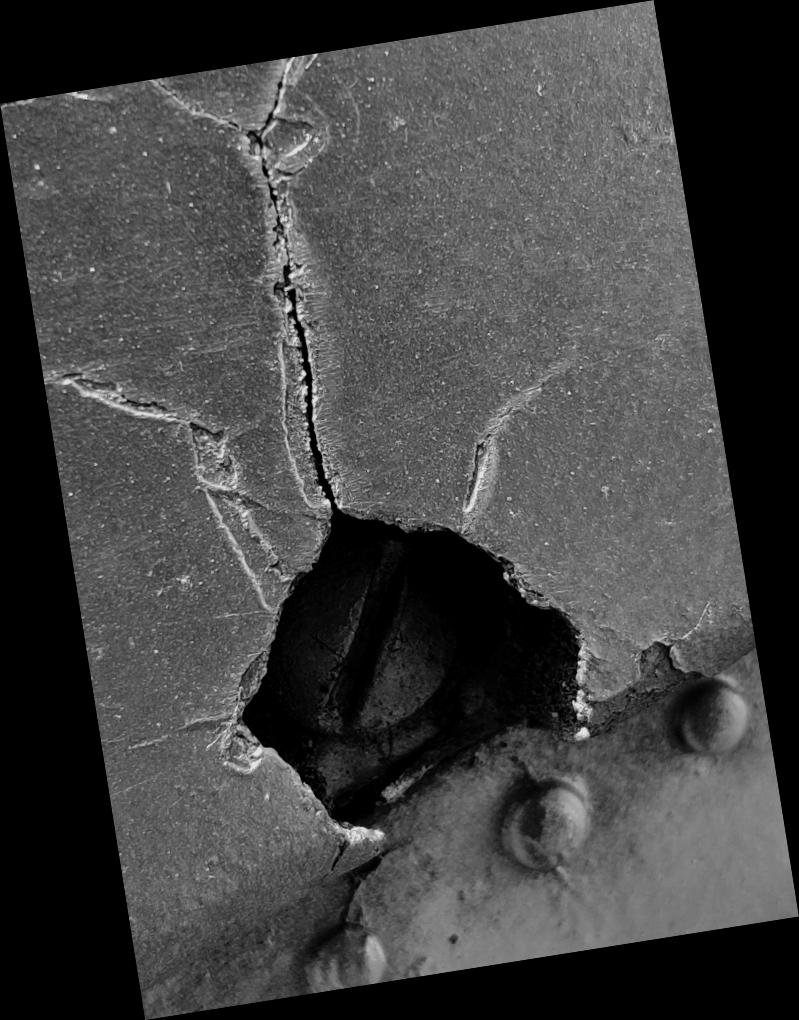crack: (1, 1, 799, 1020)
